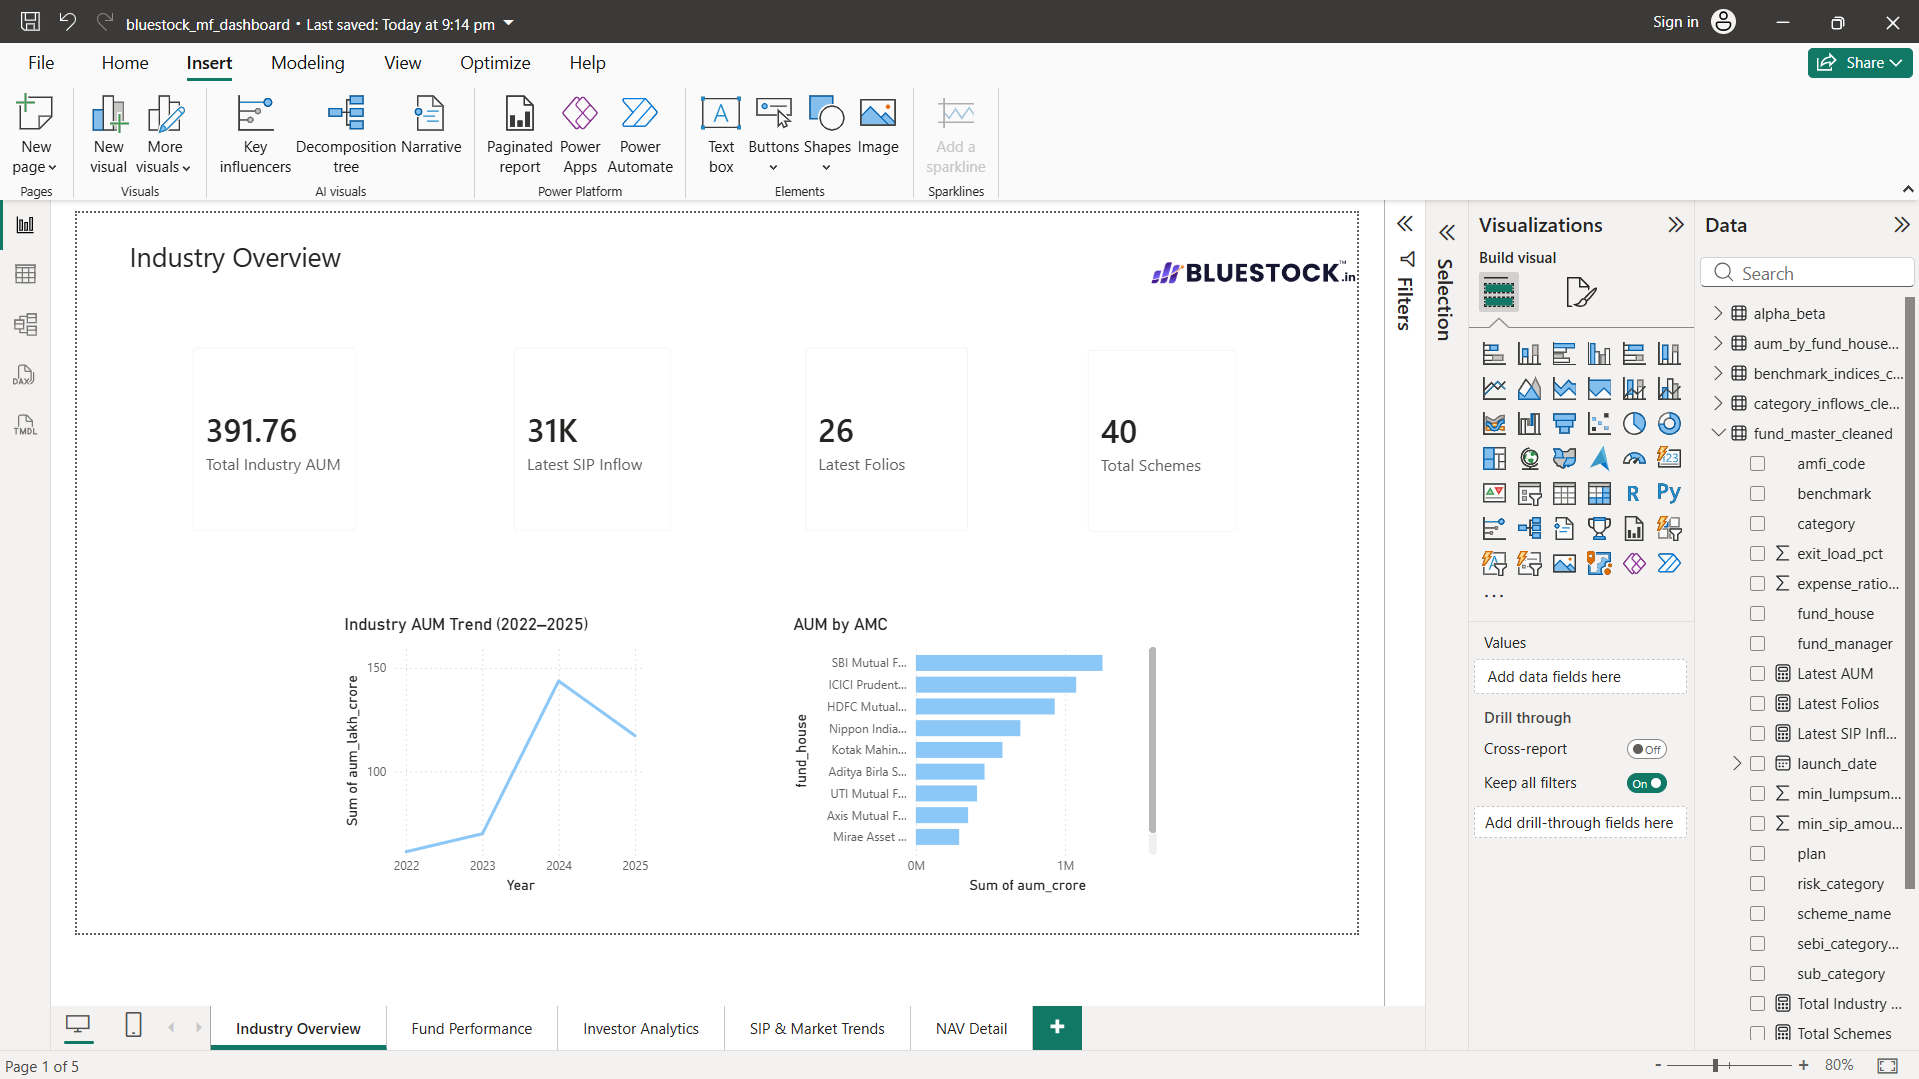

This screenshot's page, from the dashboard's own definition file:
{"tool":"powerbi","page":{"name":"Industry Overview","canvas":[1280,720],"ordinal":0},"visuals":[{"type":"cardVisual","fields":{"Data":["fund_master_cleaned.Total Industry AUM"]},"box":[98.8,117.5,197.5,218.8],"z":0},{"type":"cardVisual","fields":{"Data":["fund_master_cleaned.Latest SIP Inflow"]},"box":[420,117.5,191.2,218.8],"z":1000},{"type":"cardVisual","fields":{"Data":["fund_master_cleaned.Latest Folios"]},"box":[711.2,117.5,197.5,218.8],"z":2000},{"type":"cardVisual","fields":{"Data":["fund_master_cleaned.Total Schemes"]},"box":[993.8,120,183.8,216.2],"z":3000},{"type":"lineChart","title":"Industry AUM Trend (2022–2025)","fields":{"Category":["aum_by_fund_house_cleaned.date.Variation.Date Hierarchy.Year","aum_by_fund_house_cleaned.date.Variation.Date Hierarchy.Quarter","aum_by_fund_house_cleaned.date.Variation.Date Hierarchy.Month","aum_by_fund_house_cleaned.date.Variation.Date Hierarchy.Day"],"Y":["Sum(aum_by_fund_house_cleaned.aum_lakh_crore)"]},"box":[262.5,401.2,313.8,283.8],"z":4000},{"type":"clusteredBarChart","title":"AUM by AMC","fields":{"Category":["aum_by_fund_house_cleaned.fund_house"],"Y":["Sum(aum_by_fund_house_cleaned.aum_crore)"]},"box":[711.2,401.2,373.8,283.8],"z":5000},{"type":"image","box":[1073.8,0,206.2,117.5],"z":6000},{"type":"textbox","box":[47.5,20,248.8,51.2],"z":7000}]}

Visuals, with their boxes on the page's 1280x720 design canvas (x1, y1, x2, y2). These are canvas units, not pixel positions in the 1919x1079 screenshot, which may show the page scaled, cropped or inside an application window:
cardVisual - fund_master_cleaned.Total Industry AUM: [left=99, top=118, right=296, bottom=336]
cardVisual - fund_master_cleaned.Latest SIP Inflow: [left=420, top=118, right=611, bottom=336]
cardVisual - fund_master_cleaned.Latest Folios: [left=711, top=118, right=909, bottom=336]
cardVisual - fund_master_cleaned.Total Schemes: [left=994, top=120, right=1178, bottom=336]
"Industry AUM Trend (2022–2025)" lineChart: [left=262, top=401, right=576, bottom=685]
"AUM by AMC" clusteredBarChart: [left=711, top=401, right=1085, bottom=685]
image: [left=1074, top=0, right=1280, bottom=118]
textbox: [left=48, top=20, right=296, bottom=71]
